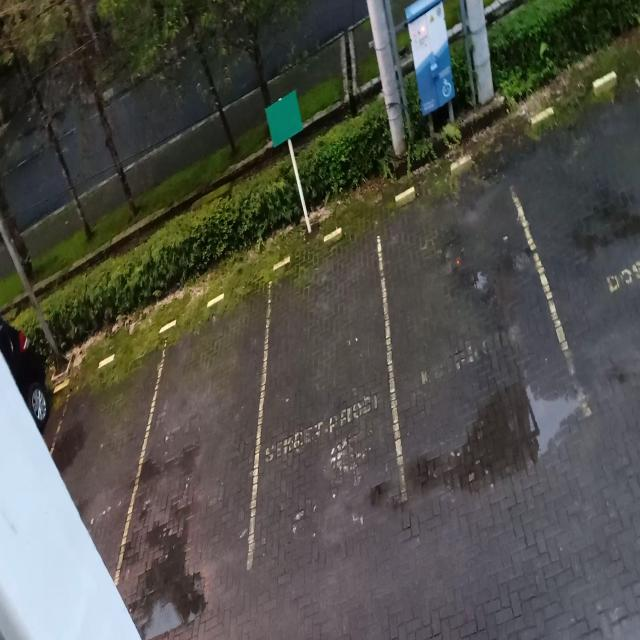empty: (380, 161, 547, 503), (255, 236, 390, 559), (136, 294, 264, 596)
